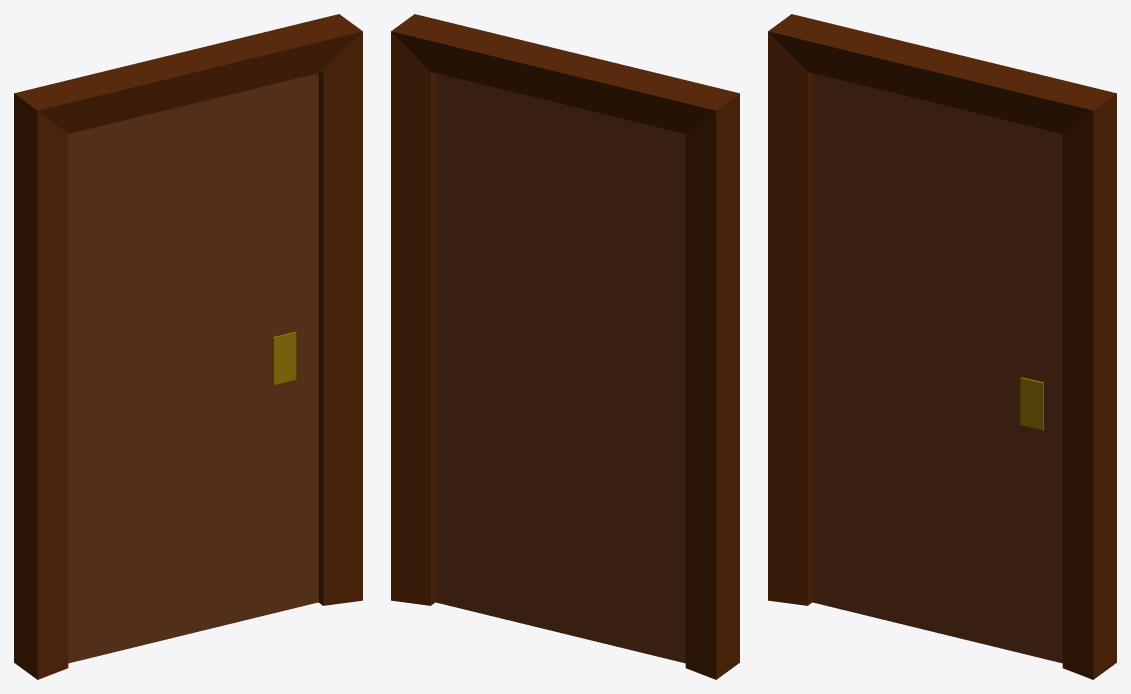
The model's file is Puerta.FBX.
The picture shows the model from 3 angles, left to right: view 1: azimuth 30°, elevation 25°; view 2: azimuth 150°, elevation 25°; view 3: azimuth 330°, elevation 25°; orthographic projection.
Parts seen in each view (by area): view 1: Marco; view 2: Marco; view 3: Marco.
Boxes of the visible parts, x1,y1,x2,y2 form: Marco: (14, 14, 362, 679); Marco: (391, 14, 739, 679); Marco: (768, 14, 1116, 679).
Size of the model in its own units: 191 by 320 by 24.11.
